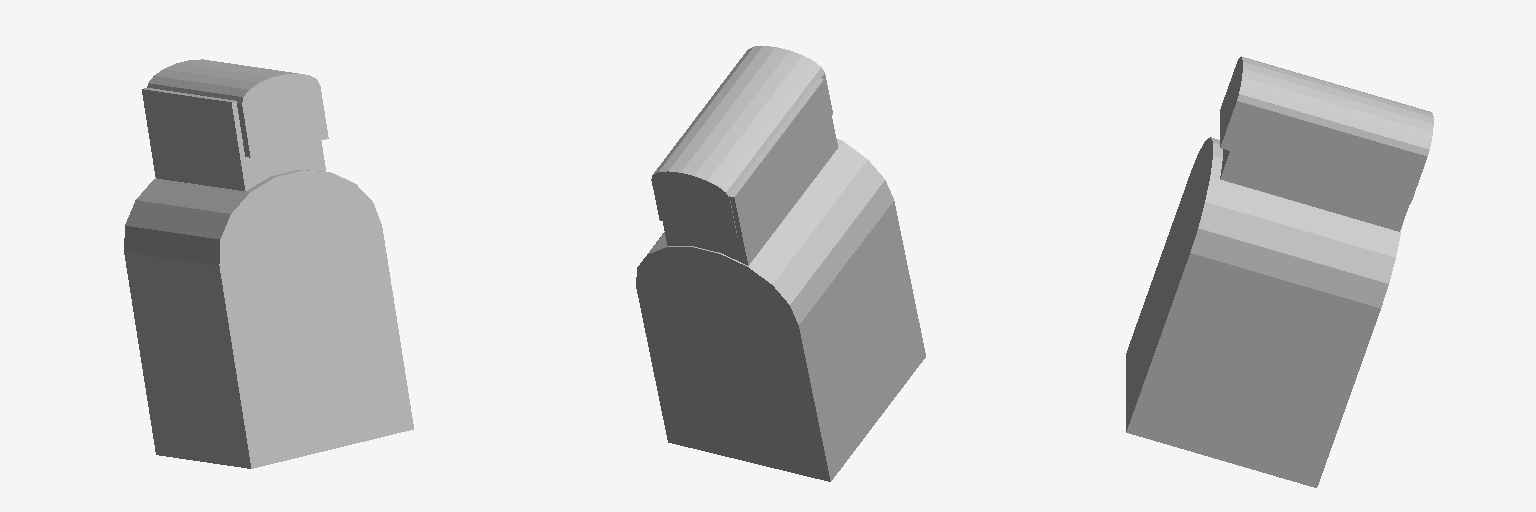
Rendered from main_ridge_Clone__9995076_0.obj.
3 renders of one model, left to right at view 1: azimuth 30°, elevation 25°; view 2: azimuth 150°, elevation 25°; view 3: azimuth 270°, elevation 25°, orthographic.
Parts seen in each view (by area): view 1: Cylinder01_39, Cube_35, Cylinder01__1__35; view 2: Cylinder01_39, Cylinder01__1__35, Cube_35; view 3: Cylinder01_39, Cylinder01__1__35, Cube_35.
Boxes of the visible parts, x1=… form: Cylinder01_39: x1=124, y1=170, x2=413, y2=468; Cube_35: x1=142, y1=88, x2=325, y2=191; Cylinder01__1__35: x1=147, y1=59, x2=328, y2=157; Cylinder01_39: x1=636, y1=138, x2=925, y2=481; Cylinder01__1__35: x1=651, y1=46, x2=832, y2=239; Cube_35: x1=663, y1=78, x2=837, y2=265; Cylinder01_39: x1=1126, y1=137, x2=1401, y2=487; Cylinder01__1__35: x1=1220, y1=56, x2=1433, y2=203; Cube_35: x1=1220, y1=149, x2=1409, y2=231.
Bounding box in the file's own units: 1.31 × 2.97 × 2.15.